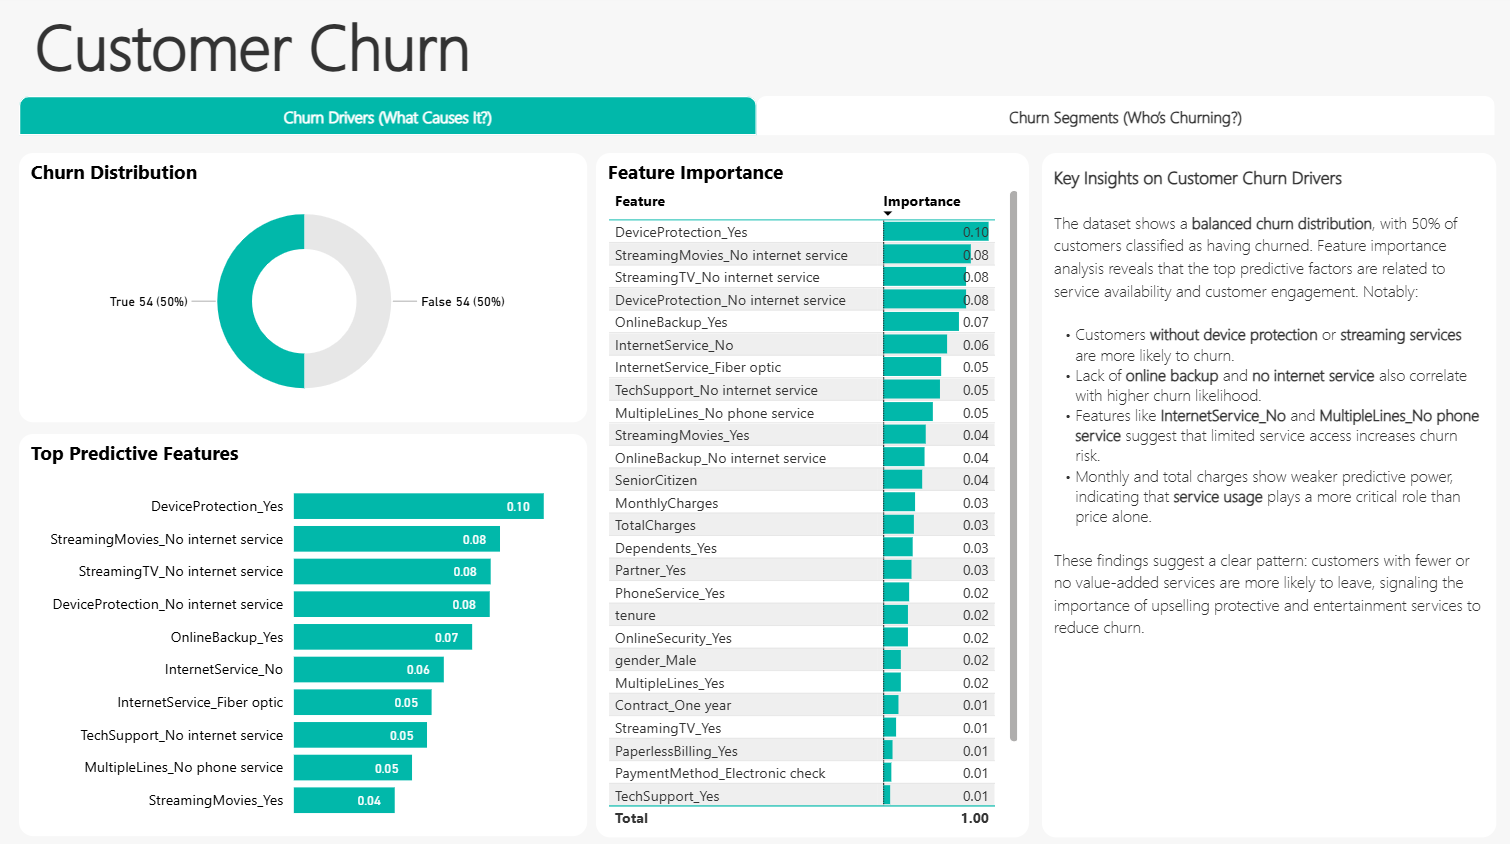

What the dashboard file says about the page in this screenshot:
{"tool":"powerbi","page":{"name":"Churn Drivers (What Causes It?)","canvas":[1280,720],"ordinal":0},"visuals":[{"type":"donutChart","title":"Churn Distribution","fields":{"Category":["customer_churn_cleaned.Churn_Yes"],"Y":["customer_churn_cleaned.Count of CustomerID"]},"box":[17.5,132.8,479,226.9],"z":0},{"type":"textbox","box":[26.2,0,430.5,85.3],"z":1000},{"type":"tableEx","title":"Feature Importance","fields":{"Values":["feature_importance.Feature","Sum(feature_importance.Importance)"]},"box":[504.2,132.8,364.6,577],"z":2000},{"type":"clusteredBarChart","title":"Top Predictive Features","fields":{"Category":["feature_importance.Feature"],"Y":["Sum(feature_importance.Importance)"]},"box":[17.5,370.4,479,339.4],"z":3000},{"type":"pageNavigator","box":[17.5,85.3,1245.1,33.9],"z":4000},{"type":"textbox","box":[880.2,133.2,382.8,576.7],"z":5000}]}

Visuals, with their boxes in screenshot pixels (x1, y1, x2, y2), scaled from the page's 1280x720 canvas onto the 1510x844 screenshot:
"Churn Distribution" donutChart: select_region(21, 156, 586, 422)
textbox: select_region(31, 0, 539, 100)
"Feature Importance" tableEx: select_region(595, 156, 1025, 832)
"Top Predictive Features" clusteredBarChart: select_region(21, 434, 586, 832)
pageNavigator: select_region(21, 100, 1489, 140)
textbox: select_region(1038, 156, 1490, 832)
